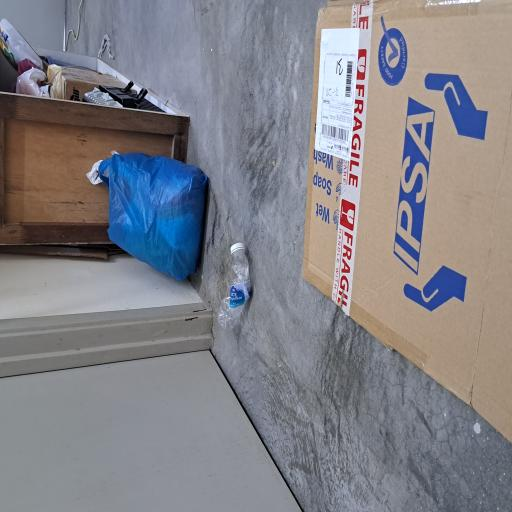plastic bag: (173, 138, 271, 279)
plastic bottle: (137, 288, 204, 340)
plastic bottle cap: (192, 303, 205, 330)
